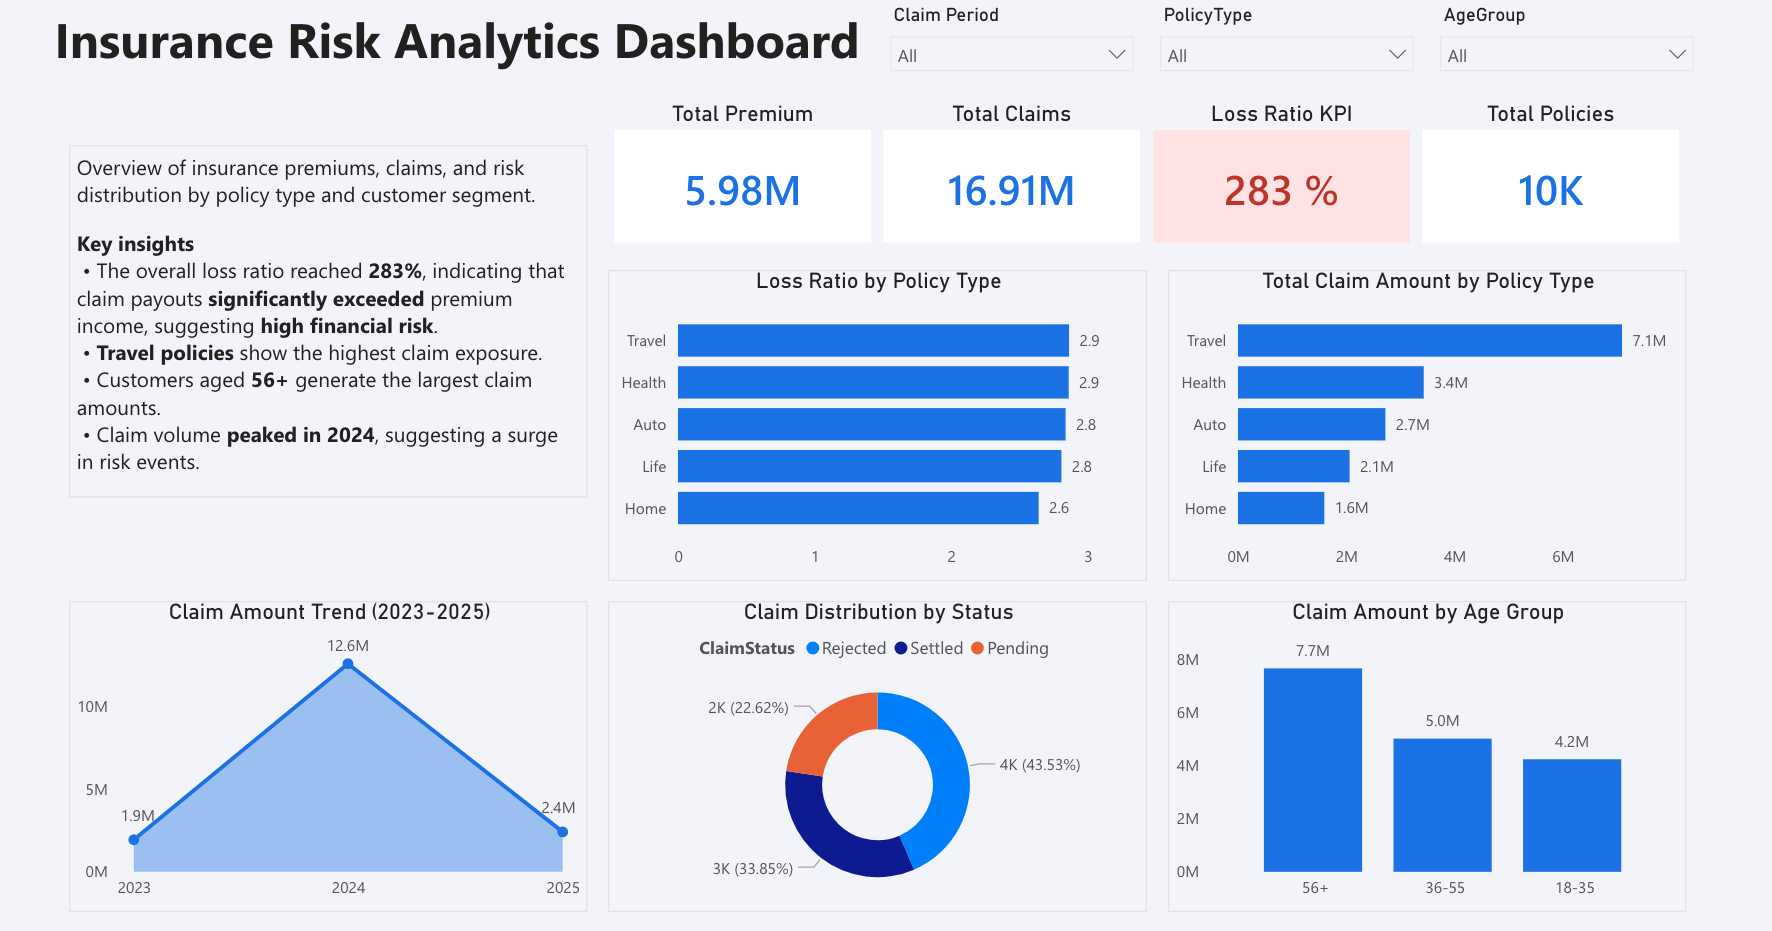

Layout of this report page (visuals, bound fields, positions):
{"tool":"powerbi","page":{"name":"Page 1","canvas":[1280,720],"ordinal":0},"visuals":[{"type":"barChart","title":"Loss Ratio by Policy Type","fields":{"Category":["RiskPolicyType.PolicyType"],"Y":["Sum(RiskPolicyType.LossRatio)"]},"box":[432,208,416,240],"z":0},{"type":"barChart","title":"Total Claim Amount by Policy Type","fields":{"Category":["RiskPolicyType.PolicyType"],"Y":["Sum(RiskPolicyType.TotalClaimAmount)"]},"box":[864,208,400,240],"z":1000},{"type":"donutChart","title":"Claim Distribution by Status","fields":{"Category":["RiskClaimsStatus.ClaimStatus"],"Y":["Sum(RiskClaimsStatus.ClaimCount)"]},"box":[432,464,416,240],"z":2000},{"type":"columnChart","title":"Claim Amount by Age Group","fields":{"Category":["RiskAgeGroup.AgeGroup"],"Y":["Sum(RiskAgeGroup.TotalClaimAmount)"]},"box":[864,464,400,240],"z":3000},{"type":"lineChart","title":"Claim Amount Trend (2023-2025)","fields":{"Category":["RIskMonthlyClaims.ClaimMonth.Variation.Date Hierarchy.Year","RIskMonthlyClaims.ClaimMonth.Variation.Date Hierarchy.Quarter","RIskMonthlyClaims.ClaimMonth.Variation.Date Hierarchy.Month","RIskMonthlyClaims.ClaimMonth.Variation.Date Hierarchy.Day"],"Y":["Sum(RIskMonthlyClaims.TotalClaimAmount)"]},"box":[16,464,400,240],"z":4000},{"type":"cardVisual","title":"Total Premium","fields":{"Data":["Sum(RiskPolicyType.TotalPremium)"]},"box":[432,80,208,112],"z":5000},{"type":"cardVisual","title":"Total Policies","fields":{"Data":["Sum(RiskPolicyType.PolicyCount)"]},"box":[1056,80,208,112],"z":6000},{"type":"textbox","box":[0,0,640,64],"z":7000},{"type":"textbox","box":[16,112,400,272],"z":8000},{"type":"slicer","fields":{"Values":["RiskPolicyType.PolicyType"]},"box":[848,0,216,64],"z":9000},{"type":"slicer","fields":{"Values":["RIskMonthlyClaims.ClaimMonth"]},"box":[640,0,208,64],"z":10000},{"type":"slicer","fields":{"Values":["RiskAgeGroup.AgeGroup"]},"box":[1064,0,216,64],"z":11000},{"type":"cardVisual","title":"Total Claims","fields":{"Data":["Sum(RiskPolicyType.TotalClaimAmount)"]},"box":[640,80,208,112],"z":12000},{"type":"cardVisual","title":"Loss Ratio KPI","fields":{"Data":["RiskPolicyType.Loss Ratio KPI"]},"box":[848,80,208,112],"z":13000}]}

Visuals, with their boxes on the page's 1280x720 design canvas (x1, y1, x2, y2). These are canvas units, not pixel positions in the 1772x931 screenshot, which may show the page scaled, cropped or inside an application window:
"Loss Ratio by Policy Type" barChart: bbox=[432, 208, 848, 448]
"Total Claim Amount by Policy Type" barChart: bbox=[864, 208, 1264, 448]
"Claim Distribution by Status" donutChart: bbox=[432, 464, 848, 704]
"Claim Amount by Age Group" columnChart: bbox=[864, 464, 1264, 704]
"Claim Amount Trend (2023-2025)" lineChart: bbox=[16, 464, 416, 704]
"Total Premium" cardVisual: bbox=[432, 80, 640, 192]
"Total Policies" cardVisual: bbox=[1056, 80, 1264, 192]
textbox: bbox=[0, 0, 640, 64]
textbox: bbox=[16, 112, 416, 384]
slicer - RiskPolicyType.PolicyType: bbox=[848, 0, 1064, 64]
slicer - RIskMonthlyClaims.ClaimMonth: bbox=[640, 0, 848, 64]
slicer - RiskAgeGroup.AgeGroup: bbox=[1064, 0, 1280, 64]
"Total Claims" cardVisual: bbox=[640, 80, 848, 192]
"Loss Ratio KPI" cardVisual: bbox=[848, 80, 1056, 192]
